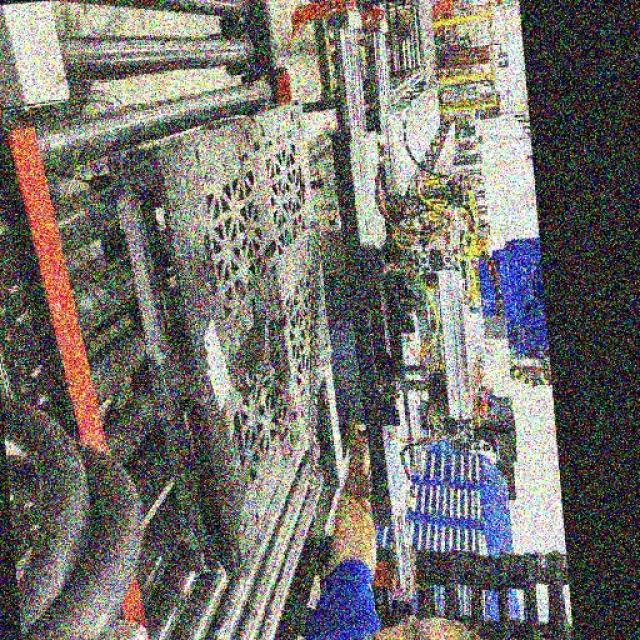igps: (90, 97, 354, 588)
